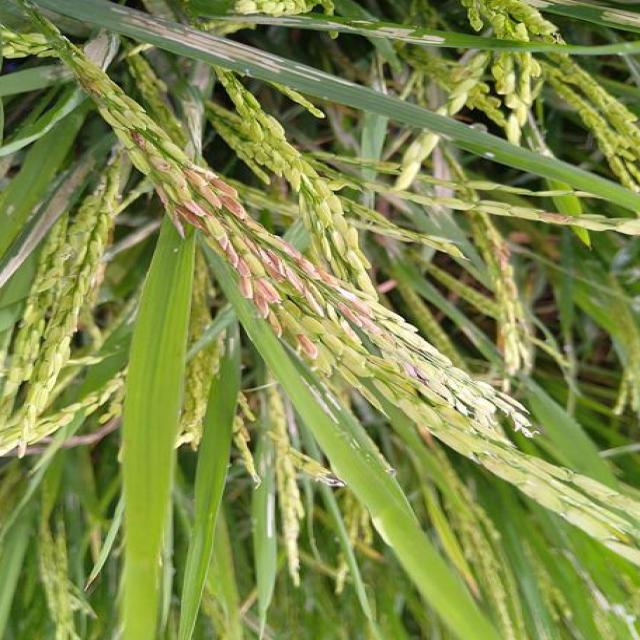Leaf Streak: (114, 8, 390, 98), (225, 17, 444, 42), (519, 0, 640, 28), (348, 20, 376, 27)
Panicle Blight: (241, 235, 323, 316), (218, 236, 281, 318), (272, 234, 340, 287), (182, 168, 244, 218), (154, 186, 206, 238), (335, 295, 382, 344), (490, 240, 515, 300), (296, 334, 319, 359), (401, 361, 427, 382), (77, 76, 101, 97), (533, 212, 574, 223), (267, 310, 282, 336), (132, 131, 147, 150), (152, 156, 170, 171)
